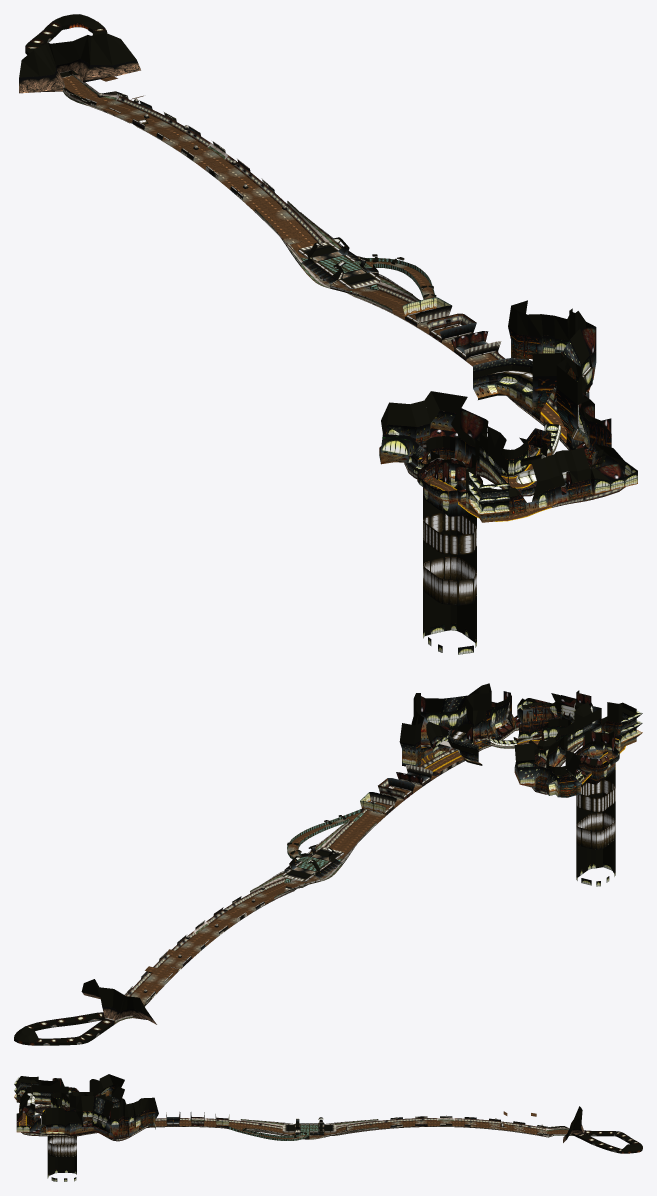
The model's file is Beltane.obj.
3 renders of one model, top to bottom at view 1: azimuth 30°, elevation 25°; view 2: azimuth 150°, elevation 25°; view 3: azimuth 270°, elevation 25°, orthographic. The views are drawn at different scales.
Parts seen in each view (by area): view 1: Beltane; view 2: Beltane; view 3: Beltane.
Part boxes in pixels (box(x1,y1,x2,y2)): Beltane: box(19, 14, 637, 654); Beltane: box(14, 683, 642, 1045); Beltane: box(14, 1074, 642, 1181).
Bounding box in the file's own units: 669 × 659 × 3072.
